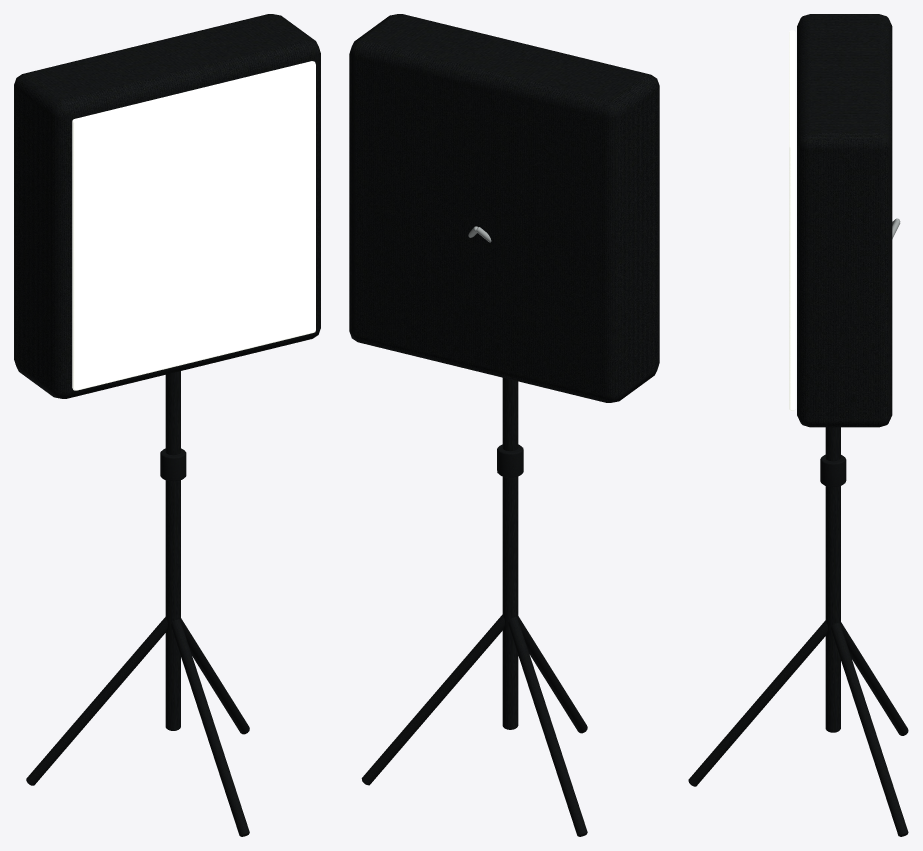
The model's file is photo-softbox-v1.glb.
3 renders of one model, left to right at view 1: azimuth 30°, elevation 25°; view 2: azimuth 150°, elevation 25°; view 3: azimuth 270°, elevation 25°, orthographic. The views are drawn at different scales.
Visible parts, largest first — view 1: Telescopic stand; view 2: Telescopic stand; view 3: Telescopic stand.
Boxes of the visible parts, x1,y1,x2,y2 form: Telescopic stand: (14,14,320,836); Telescopic stand: (349,14,659,836); Telescopic stand: (688,14,908,836).
Size of the model in its own units: 0.8 by 2.06 by 0.5756.
3 materials, 2 textured.
